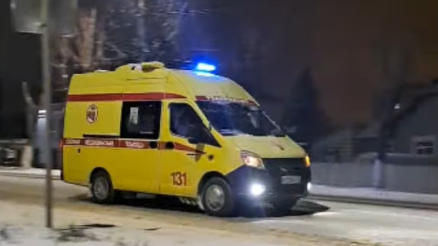intensive care unit: (60, 61, 313, 217)
